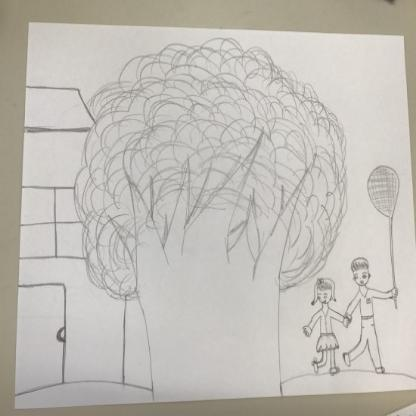branch_sharp: (105, 118, 312, 261)
crown_dizzy: (73, 34, 351, 291)
trunk_straight: (132, 299, 290, 378)
